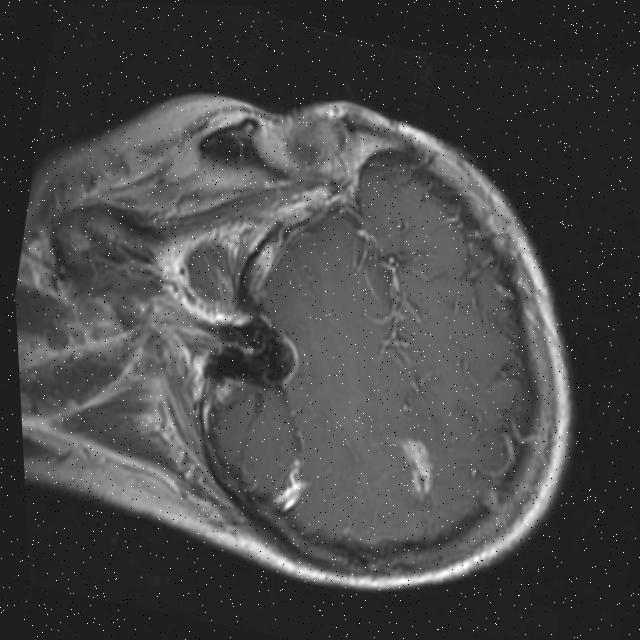Glioma: (392, 436, 443, 501)
